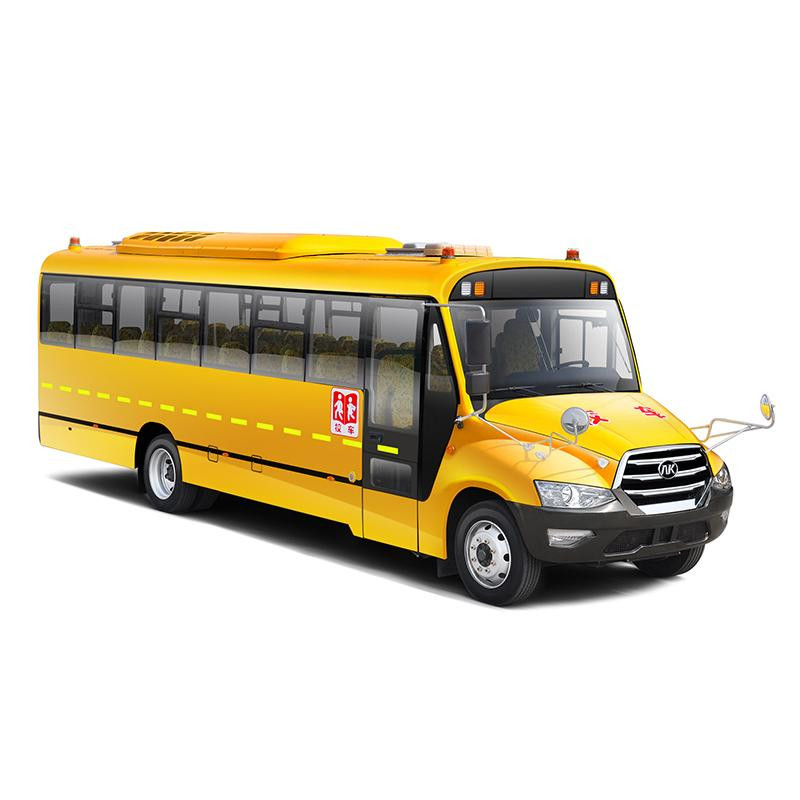autobus: (35, 228, 777, 610)
